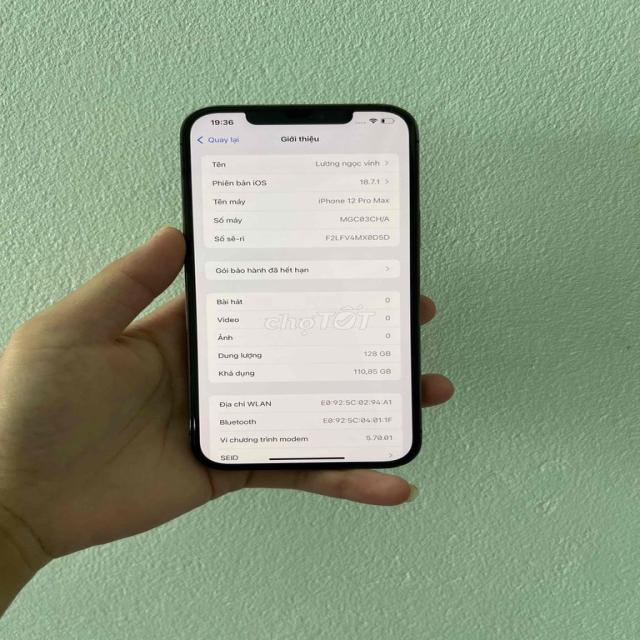gen_12_13: (183, 98, 436, 478)
